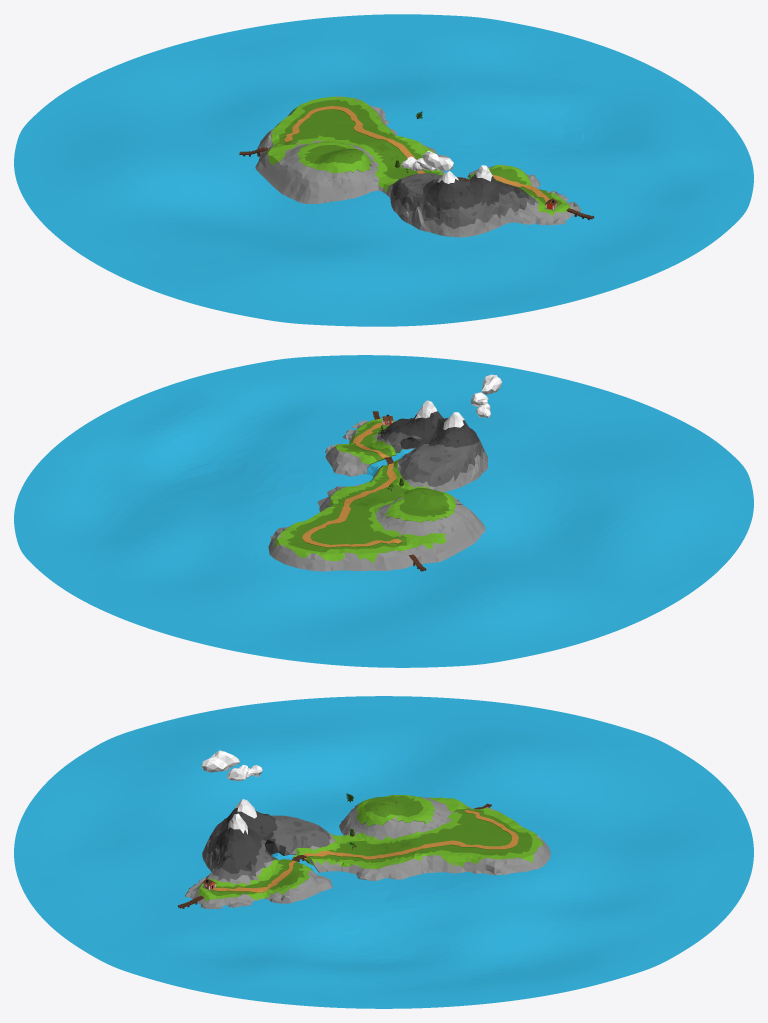
File: gltf_testi_003.gltf
The picture shows the model from 3 angles, top to bottom: view 1: azimuth 30°, elevation 25°; view 2: azimuth 150°, elevation 25°; view 3: azimuth 270°, elevation 25°; orthographic projection. The views are drawn at different scales.
Visible parts, largest first — view 1: Water001, Terrain001; view 2: Water001, Terrain001; view 3: Water001, Terrain001, Cloud003.
Boxes of the visible parts, x1,y1,x2,y2 form: Water001: (14, 14, 753, 326); Terrain001: (255, 96, 581, 237); Water001: (14, 355, 753, 667); Terrain001: (268, 400, 487, 571); Water001: (14, 696, 753, 1008); Terrain001: (185, 795, 550, 908); Cloud003: (201, 750, 239, 772).
Size of the model in its own units: 27.46 by 3.96 by 27.46.
7 materials, 4 textured.
